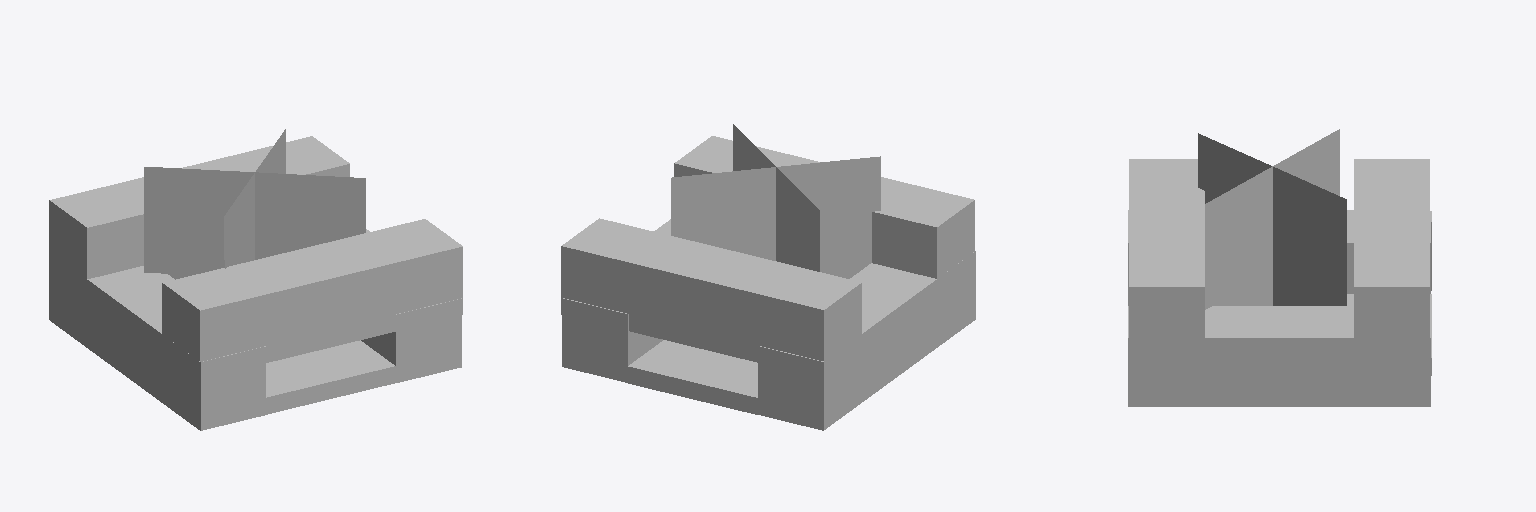
File: mcl_campfires_campfire1.obj
3 renders of one model, left to right at view 1: azimuth 30°, elevation 25°; view 2: azimuth 150°, elevation 25°; view 3: azimuth 270°, elevation 25°, orthographic.
Visible parts, largest first — view 1: nodebox4, Plane, nodebox4.004_nodebox4.005, nodebox4.001_nodebox4.004, nodebox3, nodebox4.005_nodebox4.006; view 2: nodebox4.001_nodebox4.004, Plane, nodebox4.004_nodebox4.005, nodebox4, nodebox3, nodebox4.005_nodebox4.006; view 3: nodebox4.005_nodebox4.006, Plane, nodebox4.001_nodebox4.004, nodebox4, nodebox4.004_nodebox4.005.
Boxes of the visible parts, box(x1,y1,x2,y2) form: nodebox4: box(162, 219, 462, 362); Plane: box(144, 129, 365, 279); nodebox4.004_nodebox4.005: box(49, 252, 265, 430); nodebox4.001_nodebox4.004: box(49, 136, 349, 278); nodebox3: box(266, 340, 395, 414); nodebox4.005_nodebox4.006: box(361, 229, 461, 382); nodebox4.001_nodebox4.004: box(561, 218, 861, 362); Plane: box(671, 124, 880, 278); nodebox4.004_nodebox4.005: box(758, 251, 975, 430); nodebox4: box(674, 136, 974, 278); nodebox3: box(626, 340, 757, 414); nodebox4.005_nodebox4.006: box(562, 219, 670, 382); nodebox4.005_nodebox4.006: box(1128, 306, 1430, 406); Plane: box(1198, 129, 1346, 309); nodebox4.001_nodebox4.004: box(1354, 159, 1429, 355); nodebox4: box(1129, 159, 1204, 355); nodebox4.004_nodebox4.005: box(1128, 210, 1431, 305).
Bounding box in the file's own units: 1 × 0.6359 × 1.